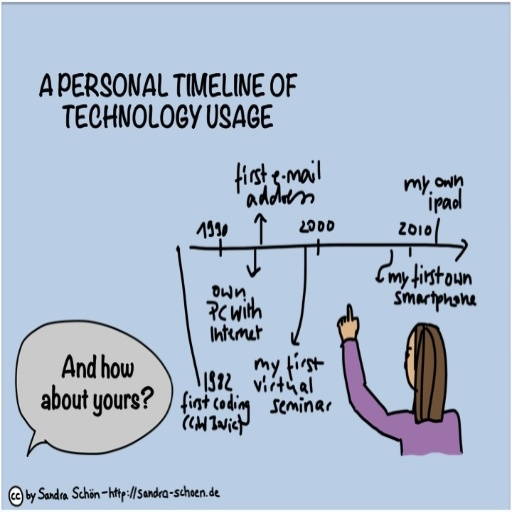hand: (334, 303, 359, 334)
